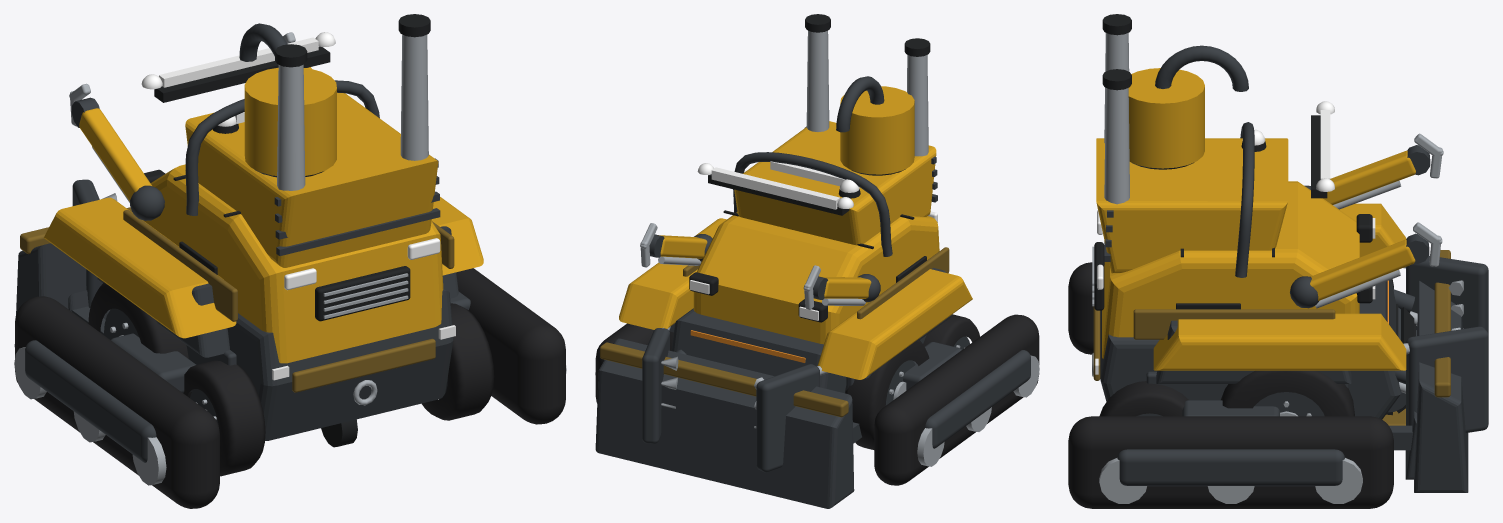
The model's file is Machine_dozer_T5.glb.
3 renders of one model, left to right at view 1: azimuth 30°, elevation 25°; view 2: azimuth 150°, elevation 25°; view 3: azimuth 270°, elevation 25°, orthographic. The views are drawn at different scales.
Visible parts, largest first — view 1: Tier2_Parts_MAT_Player_Shell_18, Tier4_Parts_MAT_tread_39, Body_Shell_0, Tier1_Parts_MAT_Player_Gunmetal_9, Axle_Rear_MAT_tread_14, Tier4_Parts_MAT_steel_41, Tier4_Parts_MAT_Player_Gunmetal_40, Cyclone_Drum_38, Tier1_Parts_MAT_darkTrim_10, Tier1_Parts_MAT_Player_Hazard_12, Tier4_Parts_MAT_darkTrim_43, Tier3_Parts_MAT_Player_Gunmetal_33 (+10 smaller); view 2: Tier1_Parts_MAT_Player_Gunmetal_9, Tier2_Parts_MAT_Player_Shell_18, Body_Shell_0, Tier4_Parts_MAT_tread_39, Tier4_Parts_MAT_Player_Gunmetal_40, Tier4_Parts_MAT_steel_41, Cyclone_Drum_38, Jaw_L_Plate_34, Tier1_Parts_MAT_Player_Hazard_12, Axle_Front_MAT_tread_6, Tier3_Parts_MAT_Player_Gunmetal_33, Jaw_R_Plate_36 (+9 smaller); view 3: Tier2_Parts_MAT_Player_Shell_18, Tier4_Parts_MAT_tread_39, Body_Shell_0, Tier1_Parts_MAT_Player_Gunmetal_9, Tier4_Parts_MAT_Player_Gunmetal_40, Cyclone_Drum_38, Tier4_Parts_MAT_steel_41, Jaw_R_Plate_36, Axle_Front_MAT_tread_6, Jaw_L_Plate_34, Tier4_Parts_MAT_Player_Hazard_42, Tier3_Parts_MAT_Player_Gunmetal_33 (+18 smaller).
Boxes of the visible parts, left/top/right/bottom form: Tier2_Parts_MAT_Player_Shell_18: left=44, top=92, right=483, bottom=338; Tier4_Parts_MAT_tread_39: left=15, top=268, right=565, bottom=508; Body_Shell_0: left=143, top=164, right=443, bottom=363; Tier1_Parts_MAT_Player_Gunmetal_9: left=14, top=226, right=458, bottom=440; Axle_Rear_MAT_tread_14: left=183, top=303, right=494, bottom=476; Tier4_Parts_MAT_steel_41: left=14, top=34, right=566, bottom=485; Tier4_Parts_MAT_Player_Gunmetal_40: left=25, top=23, right=470, bottom=462; Cyclone_Drum_38: left=244, top=67, right=336, bottom=175; Tier1_Parts_MAT_darkTrim_10: left=144, top=169, right=410, bottom=447; Tier1_Parts_MAT_Player_Hazard_12: left=20, top=207, right=435, bottom=392; Tier4_Parts_MAT_darkTrim_43: left=154, top=14, right=430, bottom=102; Tier3_Parts_MAT_Player_Gunmetal_33: left=185, top=80, right=379, bottom=365; Tier1_Parts_MAT_Player_Gunmetal_9: left=595, top=268, right=952, bottom=508; Tier2_Parts_MAT_Player_Shell_18: left=619, top=121, right=972, bottom=379; Body_Shell_0: left=693, top=212, right=939, bottom=344; Tier4_Parts_MAT_tread_39: left=595, top=314, right=1039, bottom=485; Tier4_Parts_MAT_Player_Gunmetal_40: left=836, top=76, right=1030, bottom=448; Tier4_Parts_MAT_steel_41: left=595, top=30, right=1039, bottom=466; Cyclone_Drum_38: left=840, top=86, right=914, bottom=174; Jaw_L_Plate_34: left=756, top=364, right=819, bottom=472; Tier1_Parts_MAT_Player_Hazard_12: left=600, top=342, right=848, bottom=417; Axle_Front_MAT_tread_6: left=669, top=331, right=929, bottom=449; Tier3_Parts_MAT_Player_Gunmetal_33: left=733, top=152, right=926, bottom=390; Jaw_R_Plate_36: left=642, top=328, right=669, bottom=443; Tier2_Parts_MAT_Player_Shell_18: left=1096, top=138, right=1406, bottom=370; Tier4_Parts_MAT_tread_39: left=1068, top=262, right=1393, bottom=508; Body_Shell_0: left=1102, top=181, right=1359, bottom=358; Tier1_Parts_MAT_Player_Gunmetal_9: left=1100, top=279, right=1468, bottom=492; Tier4_Parts_MAT_Player_Gunmetal_40: left=1117, top=45, right=1344, bottom=486; Cyclone_Drum_38: left=1128, top=68, right=1204, bottom=168; Tier4_Parts_MAT_steel_41: left=1099, top=33, right=1362, bottom=503; Jaw_R_Plate_36: left=1406, top=326, right=1488, bottom=432; Axle_Front_MAT_tread_6: left=1221, top=370, right=1354, bottom=416; Jaw_L_Plate_34: left=1406, top=255, right=1488, bottom=334; Tier4_Parts_MAT_Player_Hazard_42: left=1133, top=309, right=1335, bottom=339; Tier3_Parts_MAT_Player_Gunmetal_33: left=1146, top=122, right=1348, bottom=400.
Size of the model in its own units: 1.34 by 1.29 by 1.29.
